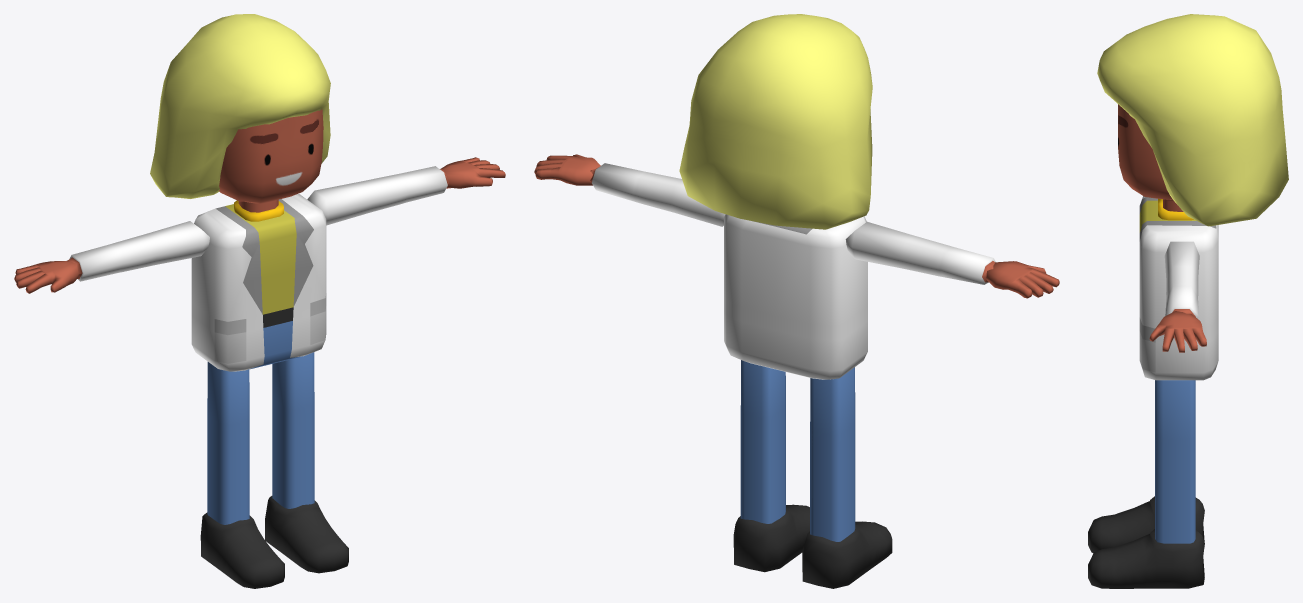
Rendered from NPC_Black01_BlondeHair05.gltf.
3 renders of one model, left to right at view 1: azimuth 30°, elevation 25°; view 2: azimuth 150°, elevation 25°; view 3: azimuth 270°, elevation 25°, orthographic. The views are drawn at different scales.
Visible parts, largest first — view 1: NPC_Corpo_Black1_BlondeHair.005; view 2: NPC_Corpo_Black1_BlondeHair.005; view 3: NPC_Corpo_Black1_BlondeHair.005.
Part boxes in pixels (<box>): NPC_Corpo_Black1_BlondeHair.005: <box>14,14,505,588</box>; NPC_Corpo_Black1_BlondeHair.005: <box>534,14,1059,588</box>; NPC_Corpo_Black1_BlondeHair.005: <box>1088,14,1288,588</box>.
Bounding box in the file's own units: 2.31 × 2.37 × 0.7967.
1 material, 1 textured.
